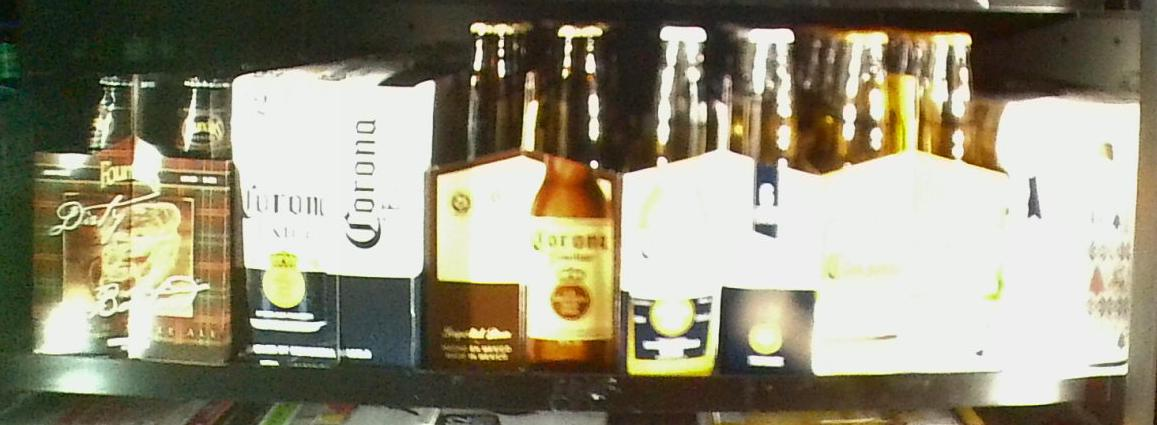bottle: (616, 25, 822, 377), (824, 26, 1008, 379), (433, 20, 615, 375), (22, 63, 231, 358), (230, 72, 423, 368), (1009, 100, 1126, 369)
